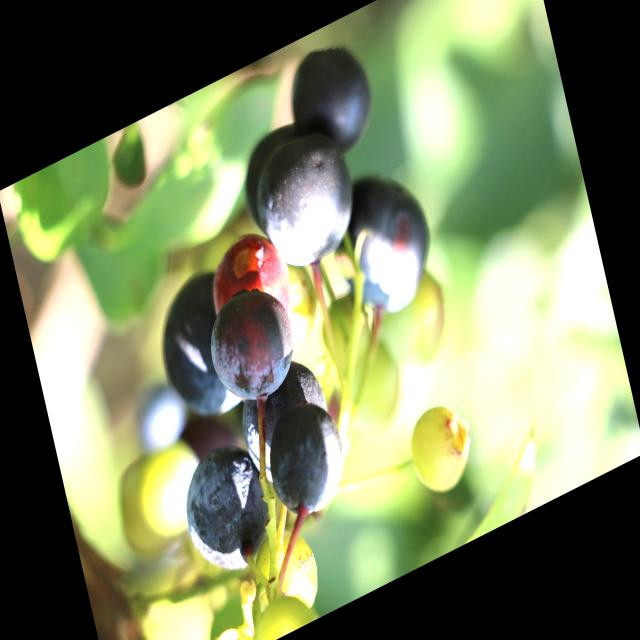blueberry: (325, 154, 446, 334), (250, 121, 368, 288), (148, 260, 241, 436), (278, 22, 384, 173), (176, 432, 276, 584), (203, 276, 303, 417), (260, 393, 356, 532)
blueberry-halfripe: (203, 217, 296, 341)
blueberry-unripe: (244, 513, 326, 627), (368, 272, 452, 382), (404, 389, 478, 503)
